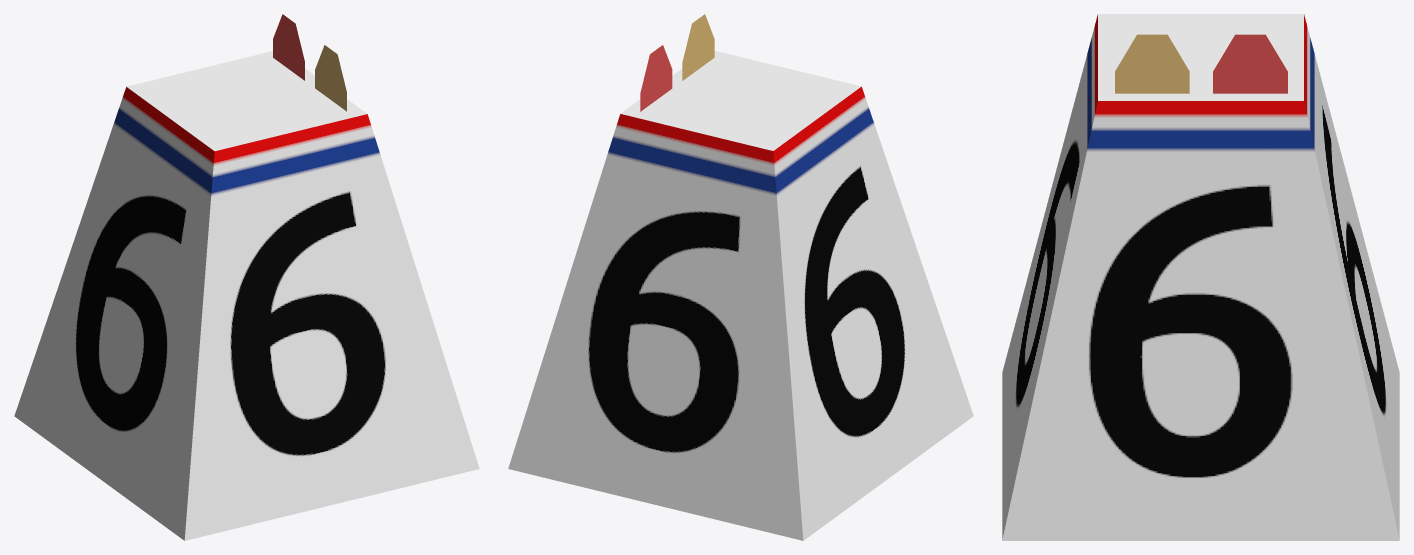
The model's file is Marker_Line6.FBX.
3 views of the same model, side by side, from view 1: azimuth 30°, elevation 25°; view 2: azimuth 150°, elevation 25°; view 3: azimuth 270°, elevation 25° (orthographic). The views are drawn at different scales.
Visible parts, largest first — view 1: Marker_Line6; view 2: Marker_Line6; view 3: Marker_Line6.
Part boxes in pixels (box(x1,y1,x2,y2)): Marker_Line6: box(14, 14, 479, 540); Marker_Line6: box(508, 14, 973, 540); Marker_Line6: box(1002, 14, 1399, 540).
Bounding box in the file's own units: 6.76 × 8.6 × 6.76.
